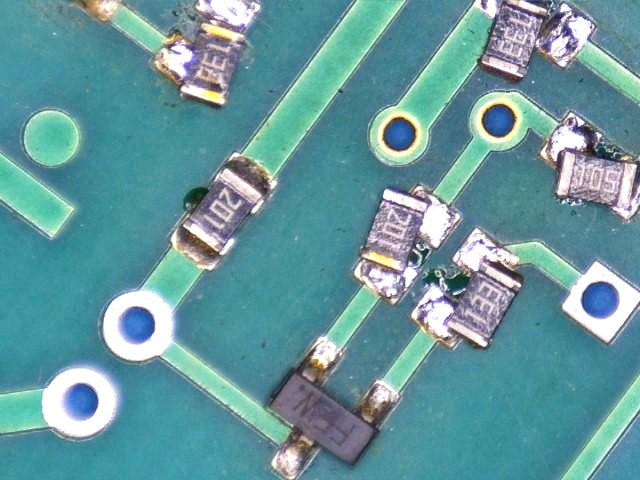pcb_defect: (409, 227, 523, 351), (351, 184, 463, 307), (149, 0, 264, 110), (538, 110, 640, 221)
